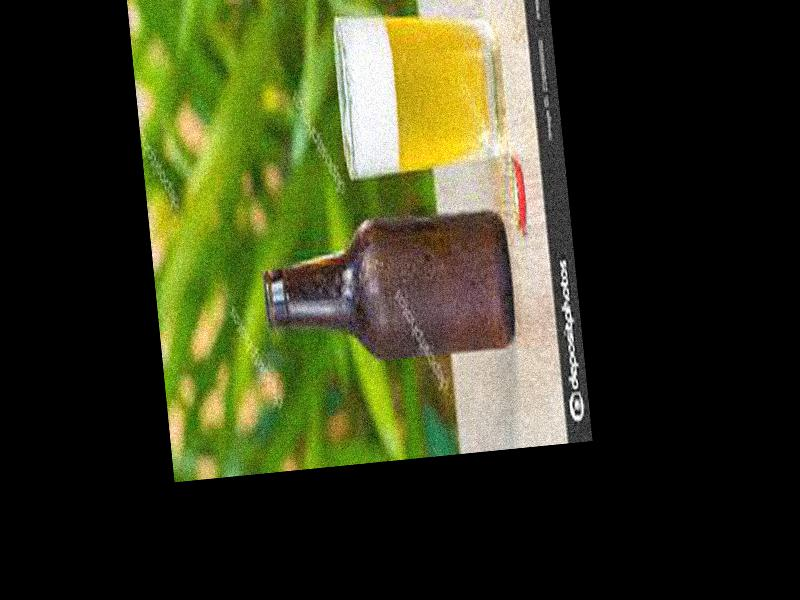Beer: (260, 208, 519, 364)
